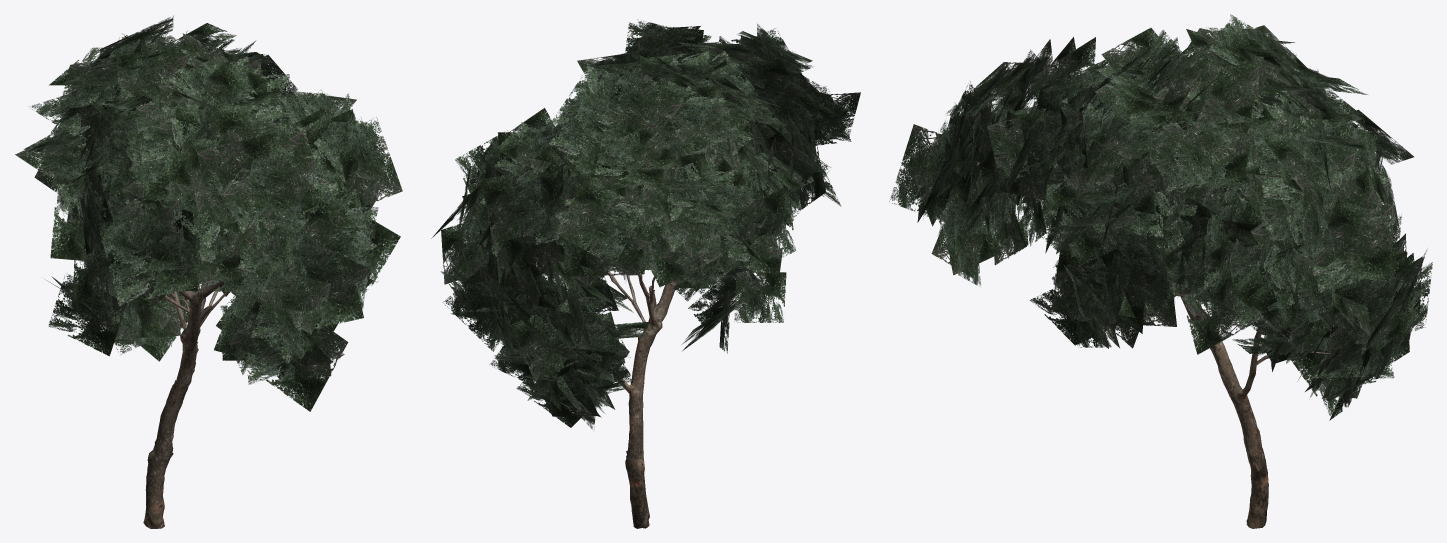
The model's file is keng_1.glb.
3 views of the same model, side by side, from view 1: azimuth 30°, elevation 25°; view 2: azimuth 150°, elevation 25°; view 3: azimuth 270°, elevation 25° (orthographic). The views are drawn at different scales.
Parts seen in each view (by area): view 1: keng_1_leaves, tree_small_02_trunk; view 2: keng_1_leaves, tree_small_02_trunk; view 3: keng_1_leaves, tree_small_02_trunk.
Part boxes in pixels (x1=…): keng_1_leaves: x1=15, y1=16, x2=402, y2=411; tree_small_02_trunk: x1=143, y1=272, x2=233, y2=528; keng_1_leaves: x1=431, y1=19, x2=860, y2=429; tree_small_02_trunk: x1=575, y1=270, x2=678, y2=528; keng_1_leaves: x1=889, y1=14, x2=1432, y2=420; tree_small_02_trunk: x1=1177, y1=169, x2=1268, y2=528.
Bounding box in the file's own units: 7.17 × 10.62 × 10.46.
Materials: 3 (3 with a texture image).
